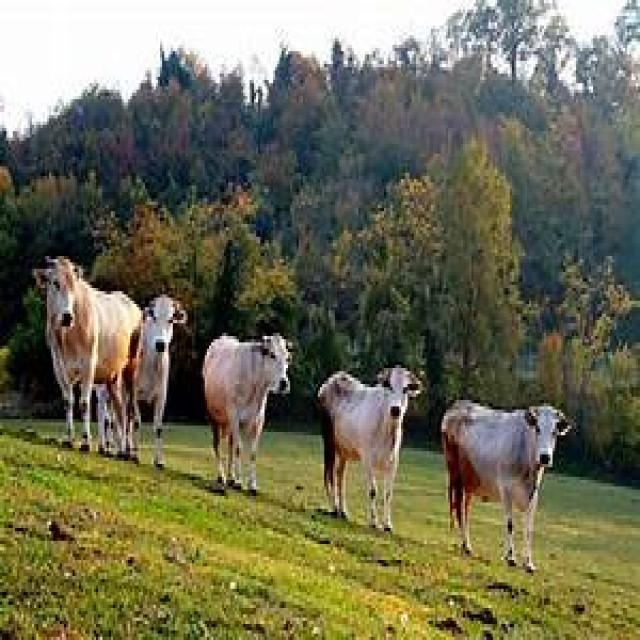cow: (441, 401, 570, 571), (37, 257, 142, 458), (318, 366, 422, 530), (202, 334, 290, 492), (138, 294, 186, 466)
